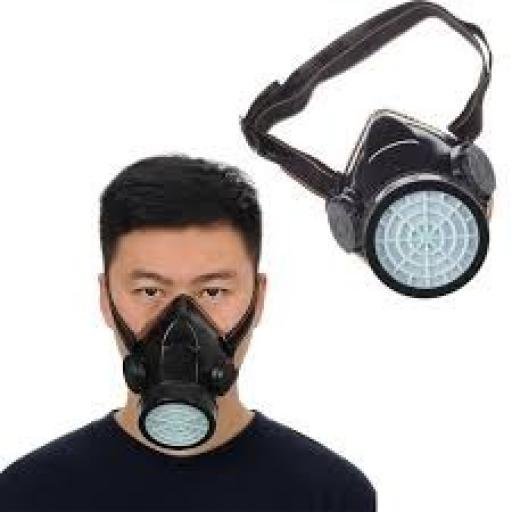mask: (298, 101, 502, 306), (97, 297, 265, 453)
